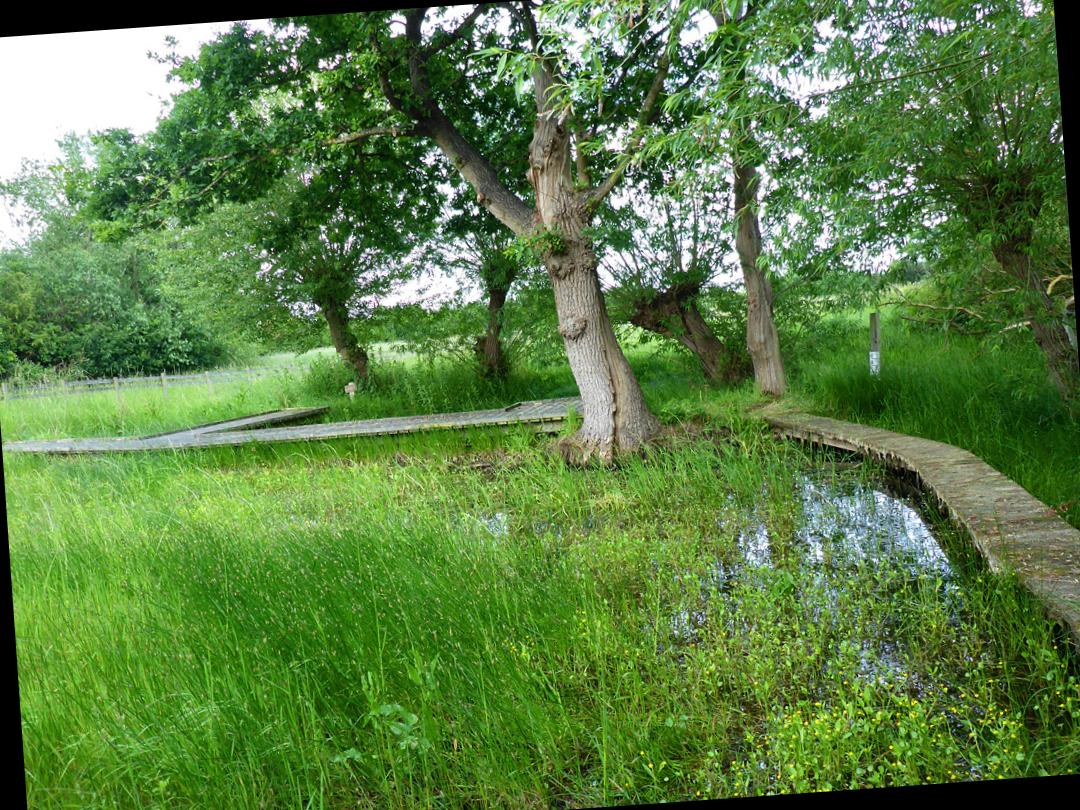overgrown grass: (3, 352, 1080, 810), (787, 318, 1080, 527), (0, 355, 576, 439)
